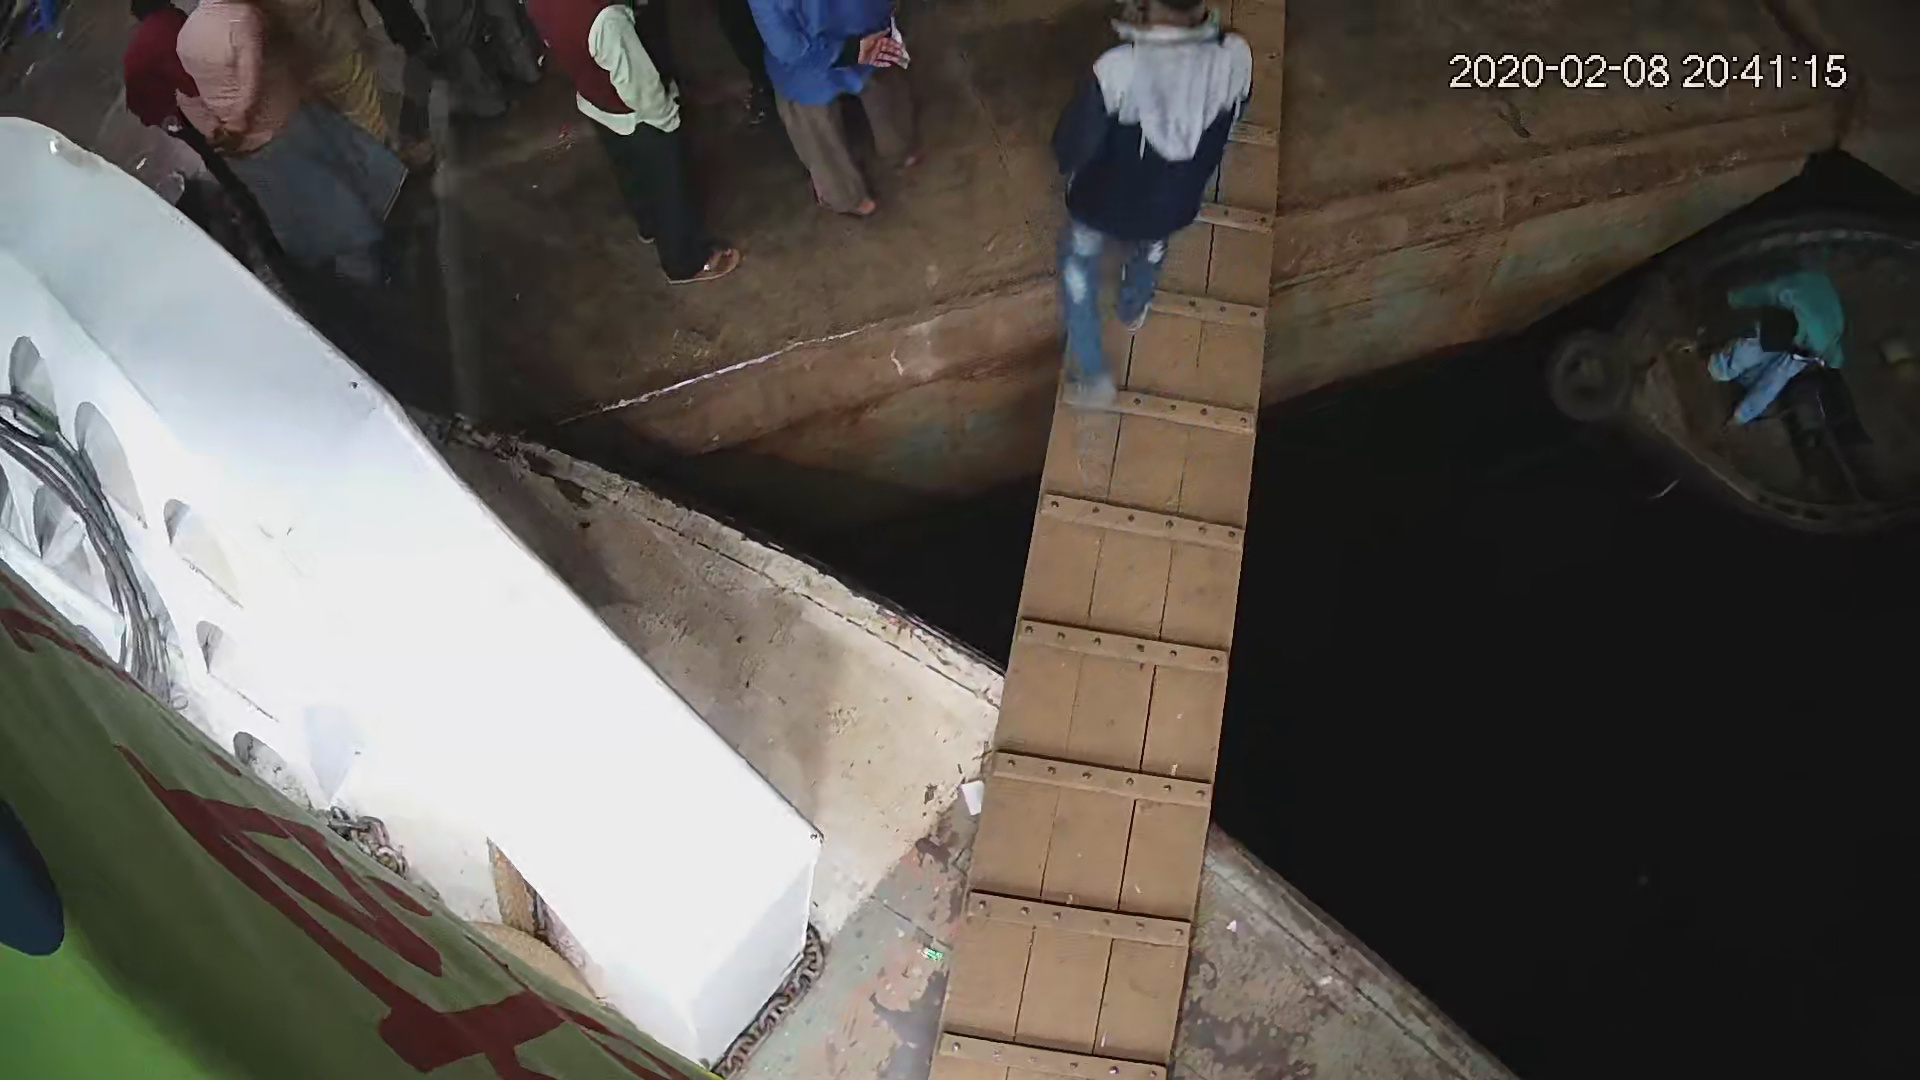person: (1046, 1, 1258, 416), (185, 1, 415, 290), (517, 3, 744, 291), (1696, 265, 1852, 426)
